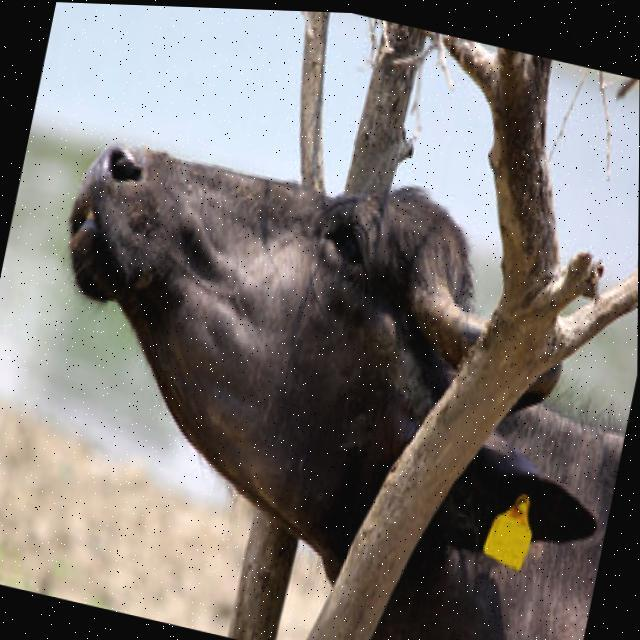Buffalo: (0, 101, 639, 640)
